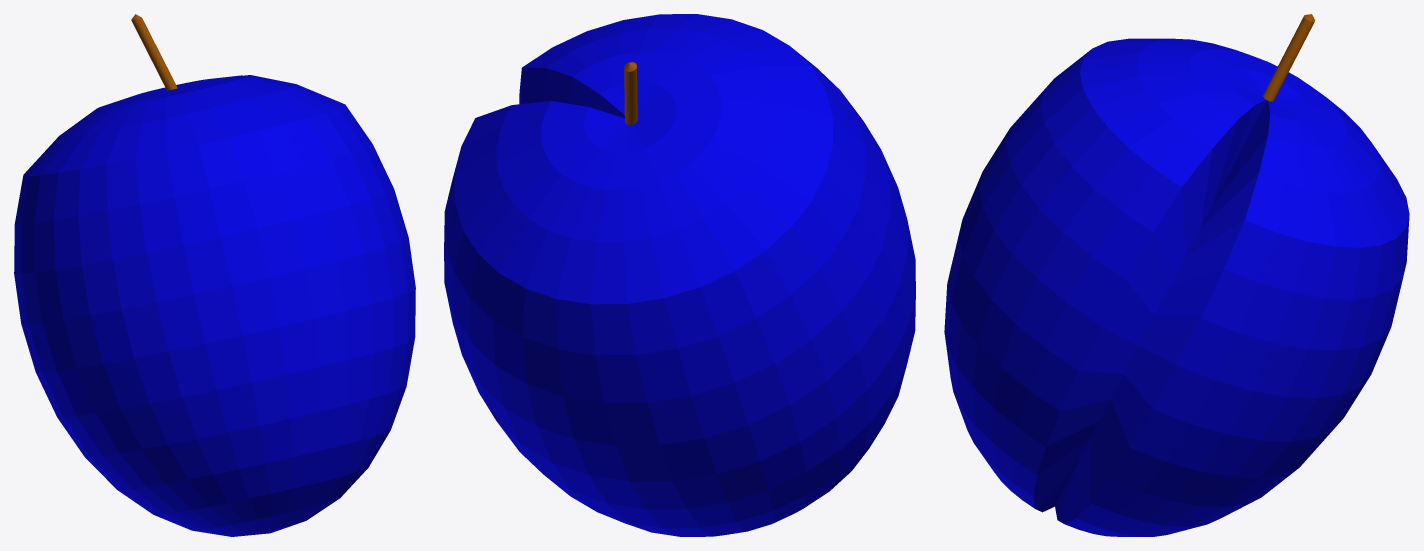
File: Sliva.fbx
The picture shows the model from 3 angles, left to right: view 1: azimuth 30°, elevation 25°; view 2: azimuth 150°, elevation 25°; view 3: azimuth 270°, elevation 25°; orthographic projection. The views are drawn at different scales.
Parts seen in each view (by area): view 1: Сфера; view 2: Сфера; view 3: Сфера.
Part boxes in pixels (bbox=[...]): Сфера: bbox=[14, 14, 415, 536]; Сфера: bbox=[444, 14, 915, 536]; Сфера: bbox=[944, 14, 1409, 536].
Size of the model in its own units: 200 by 250 by 212.
